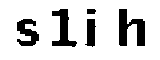1: (46, 8, 77, 47)
h: (111, 6, 147, 50)
i: (84, 7, 101, 48)
s: (13, 18, 38, 49)
